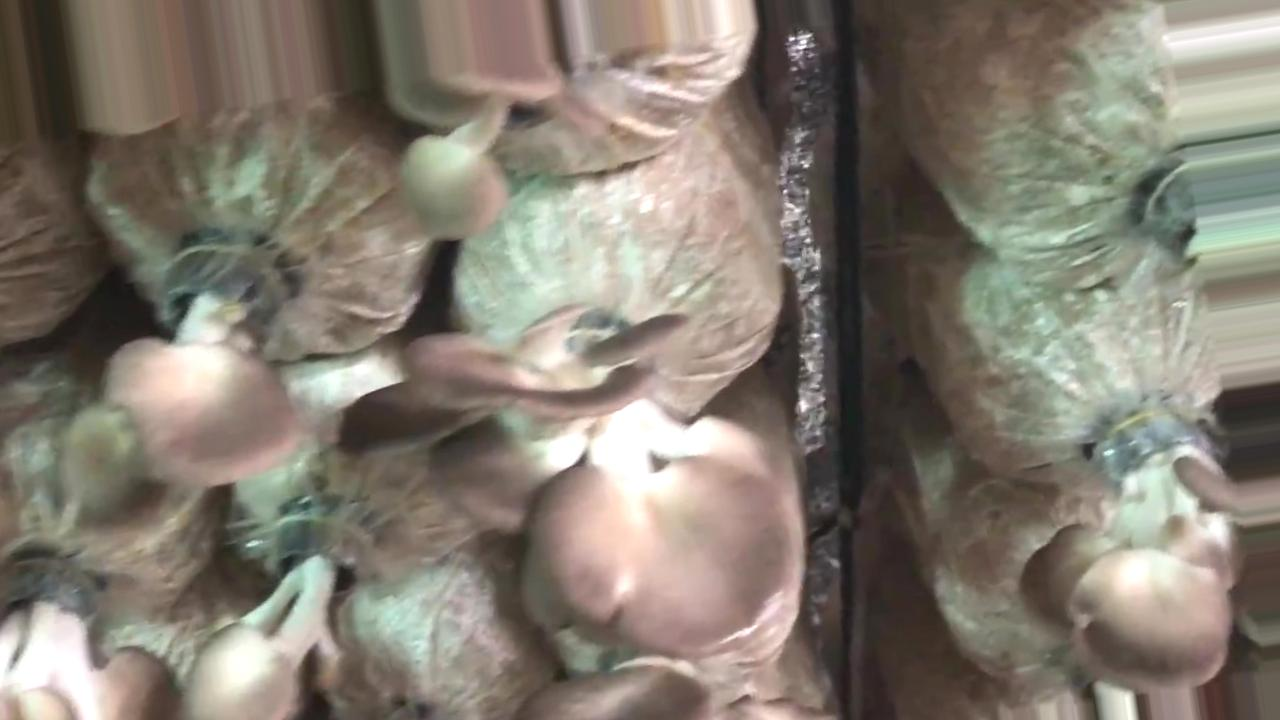nam: (334, 296, 805, 662), (1021, 409, 1274, 691), (102, 241, 305, 500), (194, 506, 381, 720), (1, 542, 178, 716), (398, 88, 556, 237)
